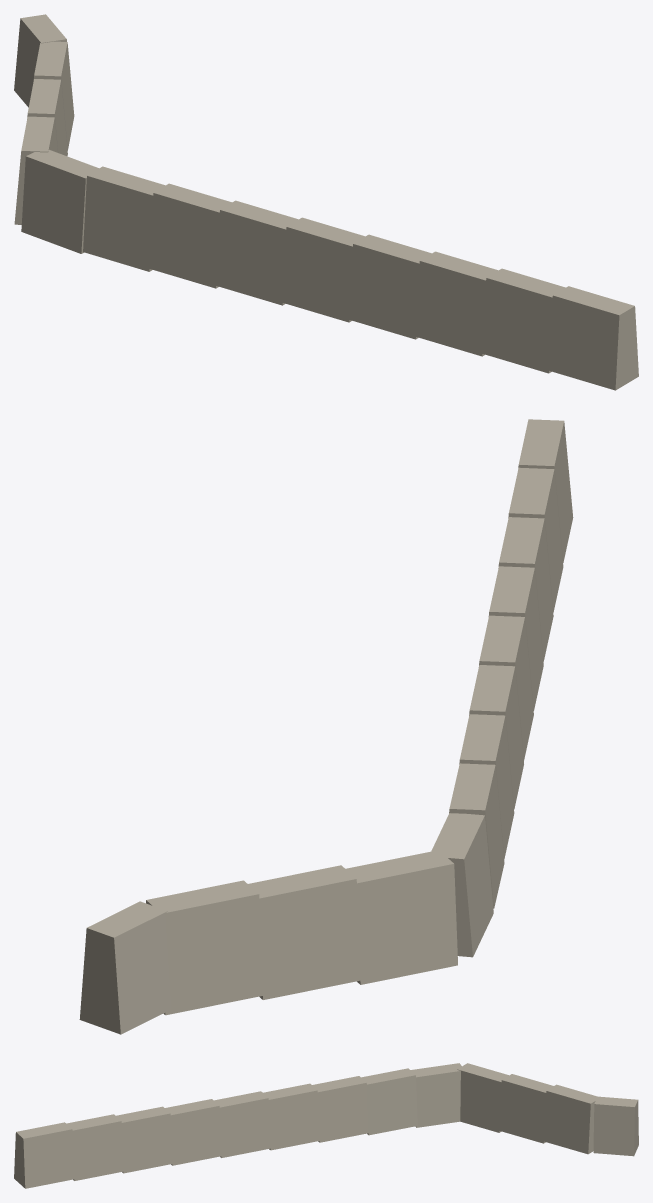
File: bormla_59_33_mid.glb
3 views of the same model, one above another, from view 1: azimuth 30°, elevation 25°; view 2: azimuth 150°, elevation 25°; view 3: azimuth 270°, elevation 25° (orthographic). The views are drawn at different scales.
Visible parts, largest first — view 1: geometry_0; view 2: geometry_0; view 3: geometry_0.
Part boxes in pixels (box(x1,y1,x2,y2)): geometry_0: box(14, 14, 638, 390); geometry_0: box(79, 419, 573, 1034); geometry_0: box(14, 1063, 638, 1188).
Bounding box in the file's own units: 49.58 × 15.62 × 139.
